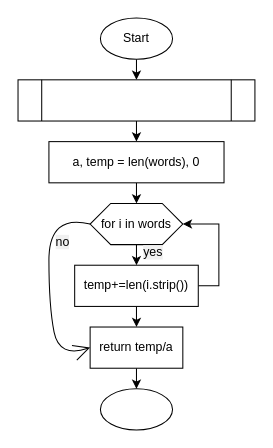
Image size: 273x448. Some labels were removed from this diagram. Each missing label, with the box of its shape:
def averageLength(words)->int:: (17, 79, 255, 121)
End: (99, 388, 173, 430)
